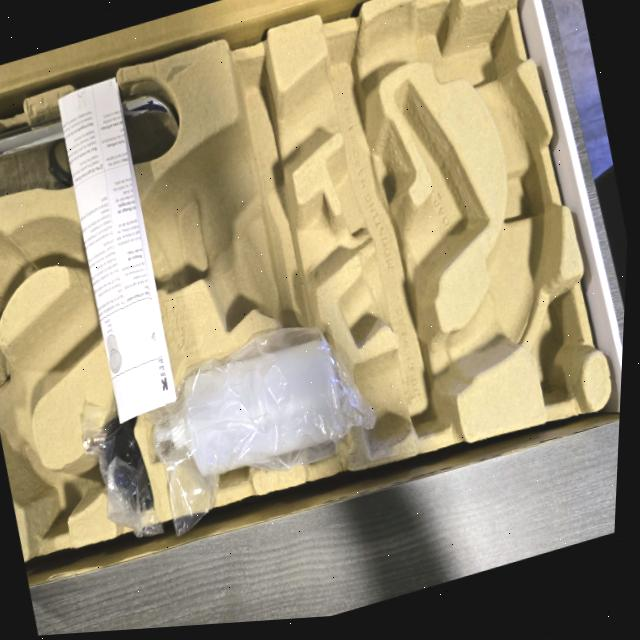1m: (0, 4, 562, 454)
2m: (336, 78, 488, 344)
3: (147, 331, 344, 478)
4o: (0, 92, 178, 195)
5m: (0, 236, 26, 293)
6m: (5, 433, 86, 536)
7: (80, 402, 158, 536)
8: (55, 73, 178, 427)
